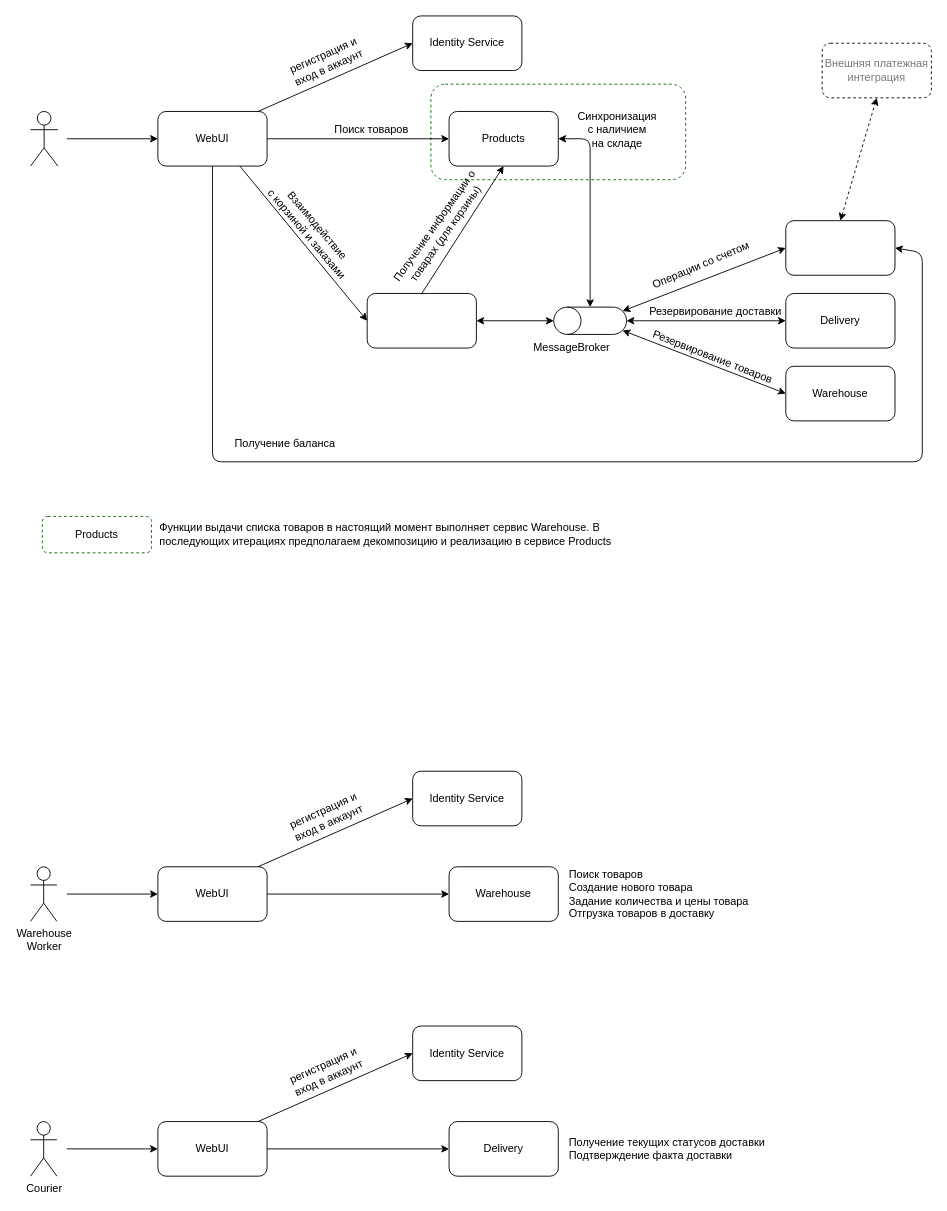
This 947x1211 diagram has some shape labels left out. The shapes that lost their labels are listed below. From the top down, each one's centre as x and y in pixels, then its label:
the point at 44,138: Client
the point at 840,247: Billing
the point at 421,320: Orders
